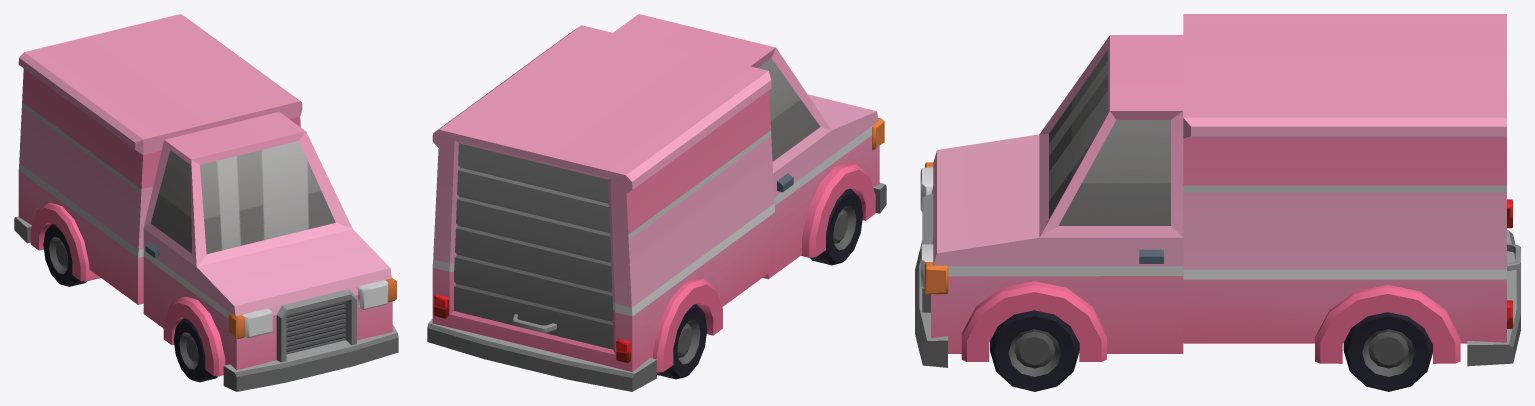
The model's file is PostCar_6.glb.
3 renders of one model, left to right at view 1: azimuth 30°, elevation 25°; view 2: azimuth 150°, elevation 25°; view 3: azimuth 270°, elevation 25°, orthographic. The views are drawn at different scales.
Visible parts, largest first — view 1: PostCar_6, Wheel_FR, Wheel_BR; view 2: PostCar_6, Wheel_FR, Wheel_BR; view 3: PostCar_6, Wheel_FL, Wheel_BL.
Part boxes in pixels (x1,y1,x2,y2): PostCar_6: [14, 14, 398, 391]; Wheel_FR: [173, 318, 217, 382]; Wheel_BR: [43, 224, 86, 286]; PostCar_6: [427, 14, 886, 391]; Wheel_FR: [810, 188, 863, 265]; Wheel_BR: [657, 304, 707, 379]; PostCar_6: [915, 14, 1520, 367]; Wheel_FL: [990, 310, 1079, 391]; Wheel_BL: [1343, 312, 1432, 391].
Bounding box in the file's own units: 1.18 × 1.24 × 2.51.
Materials: 5 (5 with a texture image).
